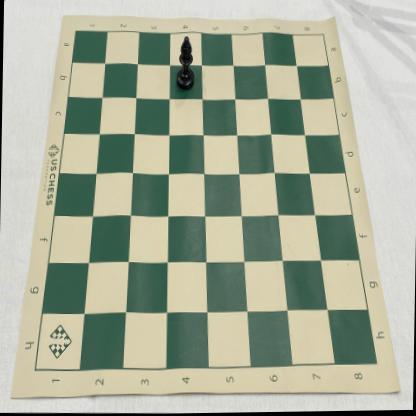black-bishop: (175, 36, 196, 92)
